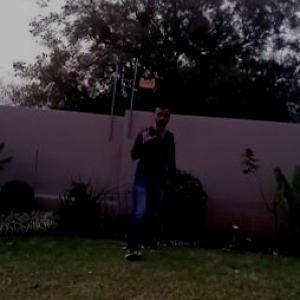follow_hand: (136, 118, 158, 148)
